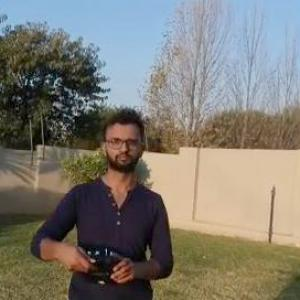follow: (26, 100, 180, 299)
